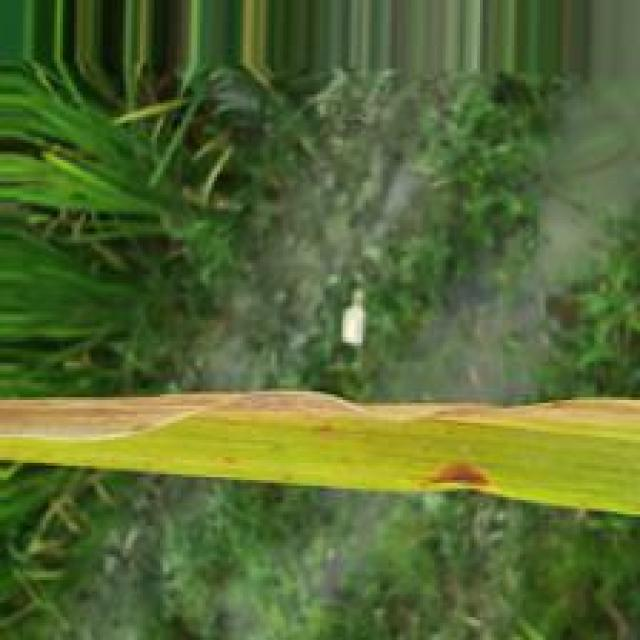Leaf_Blast: (0, 392, 640, 443), (426, 458, 493, 488)
